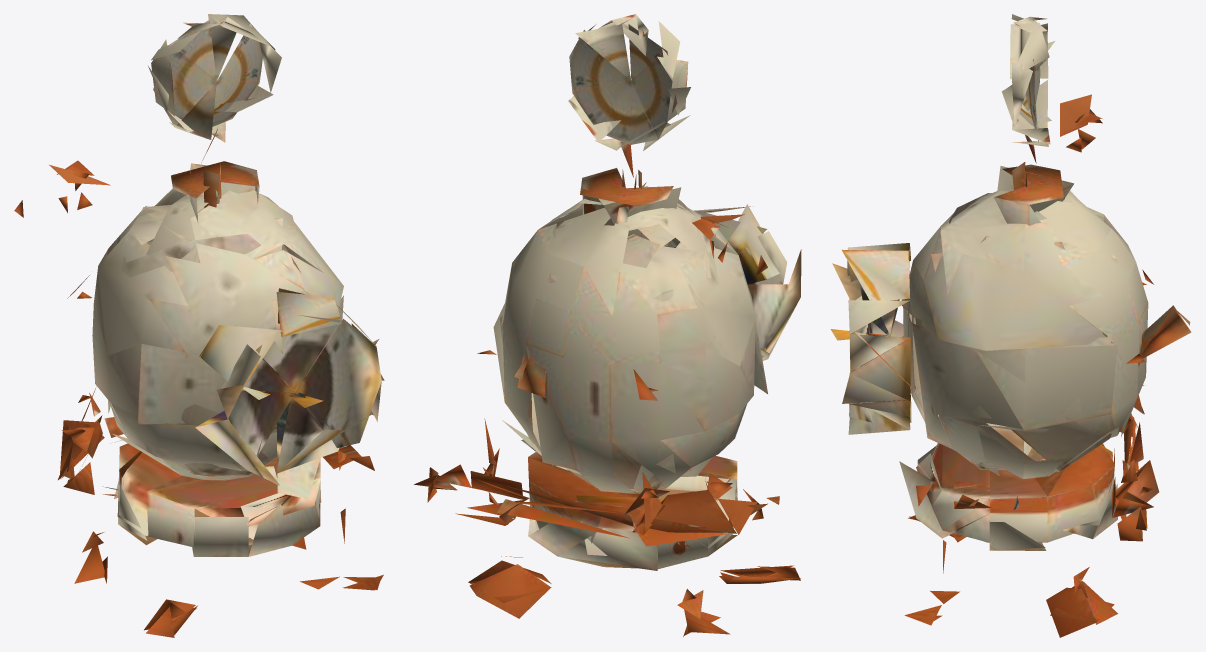
The model's file is pump.lod1.glb.
3 renders of one model, left to right at view 1: azimuth 30°, elevation 25°; view 2: azimuth 150°, elevation 25°; view 3: azimuth 270°, elevation 25°, orthographic. The views are drawn at different scales.
Visible parts, largest first — view 1: pump.001; view 2: pump.001; view 3: pump.001.
Boxes of the visible parts, x1,y1,x2,y2 form: pump.001: [14, 14, 384, 637]; pump.001: [414, 14, 801, 636]; pump.001: [830, 14, 1191, 637].
Bounding box in the file's own units: 0.5303 × 0.9291 × 0.5403.
1 material, 1 textured.
